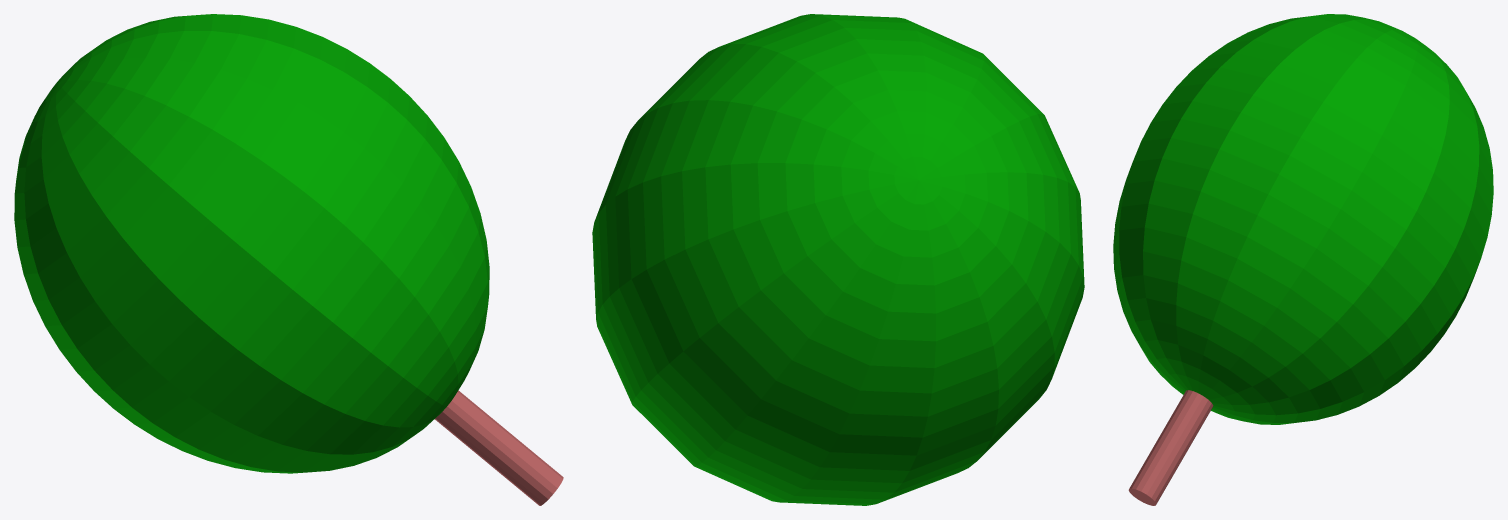
The model's file is data0.glb.
The picture shows the model from 3 angles, left to right: view 1: azimuth 30°, elevation 25°; view 2: azimuth 150°, elevation 25°; view 3: azimuth 270°, elevation 25°; orthographic projection. The views are drawn at different scales.
Size of the model in its own units: 15.47 by 16.06 by 14.48.
